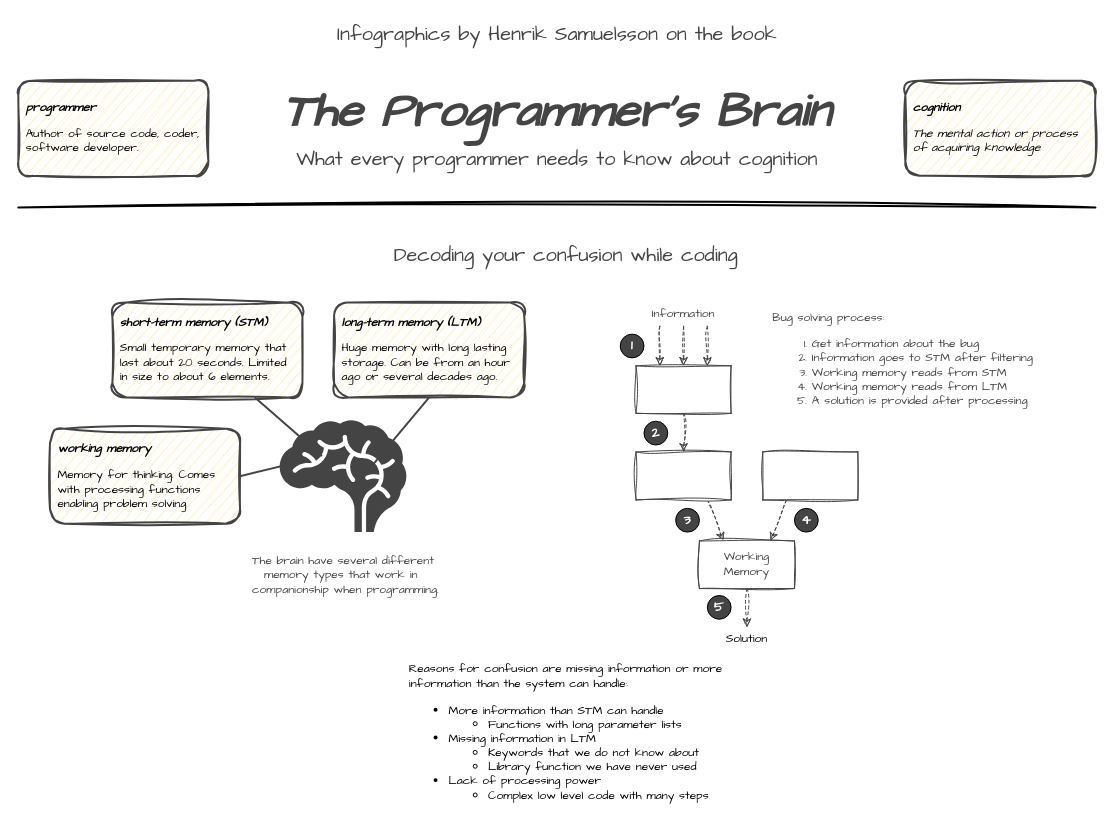
Image size: 1114x834. Some labels were removed from this diagram. The shapes that lost their labels are listed below. From the top down, each one's box as (x1, y1, x2, y2) in pixels, then its label:
(635, 365, 731, 413): Filter
(635, 451, 731, 500): STM
(762, 451, 858, 500): LTM
